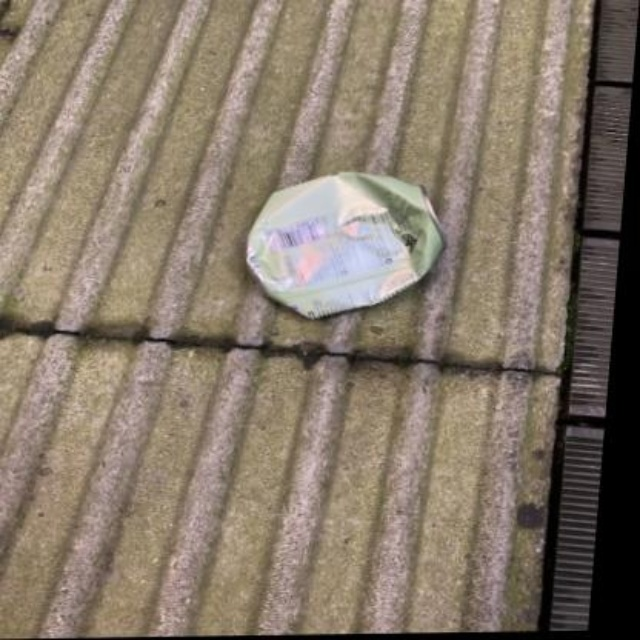trash: (246, 172, 442, 317)
